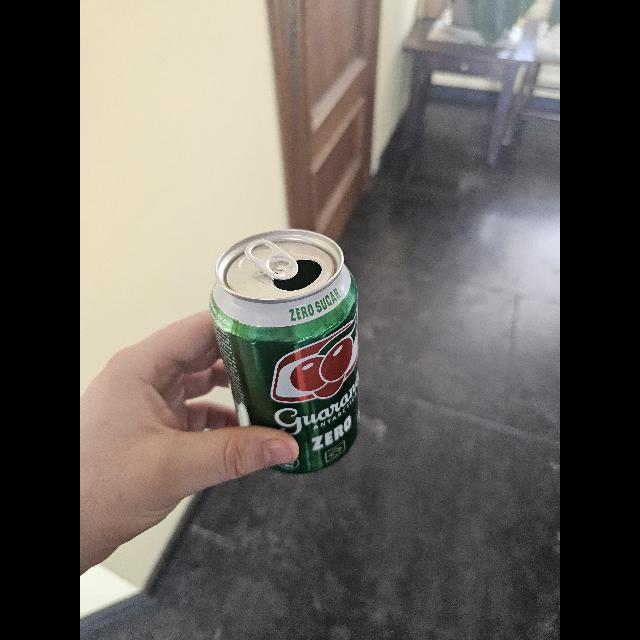Metal: (206, 226, 364, 474)
